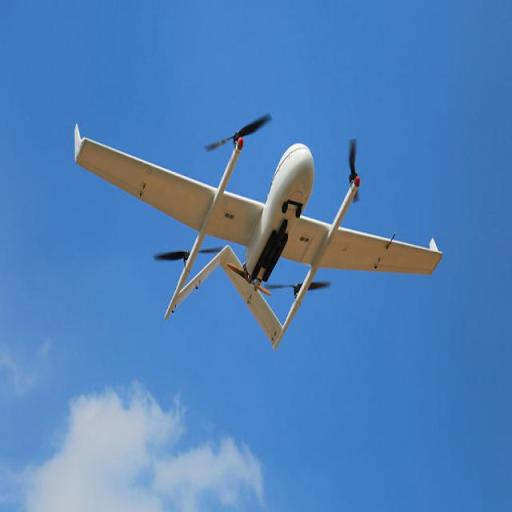uav: (52, 102, 448, 361)
